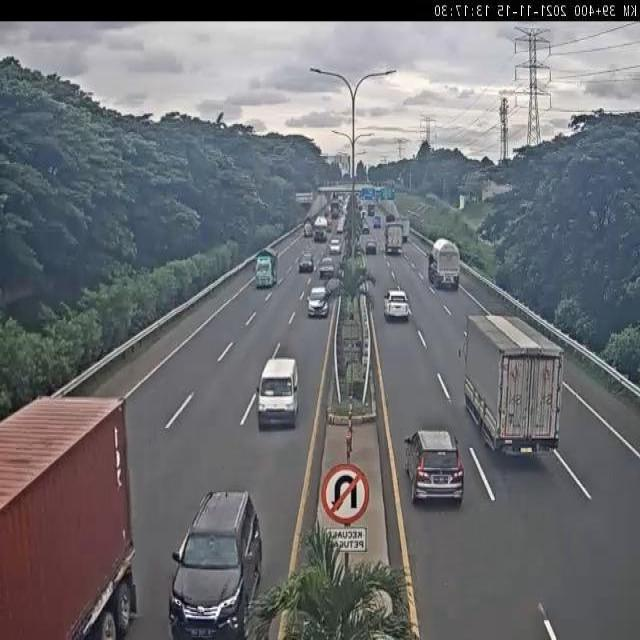Car: (171, 489, 265, 640), (404, 428, 464, 508), (384, 290, 409, 323), (306, 287, 329, 317), (319, 258, 335, 278), (298, 254, 314, 273), (366, 241, 376, 255)
Truck: (0, 394, 139, 640), (455, 312, 564, 459), (426, 237, 460, 291), (252, 246, 279, 288), (384, 223, 404, 256), (314, 216, 328, 243)
Van: (254, 358, 300, 430)
